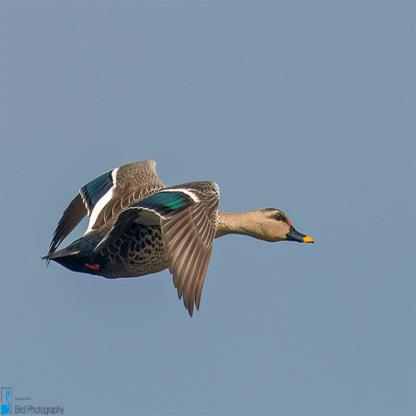Burung: (40, 158, 313, 317)
